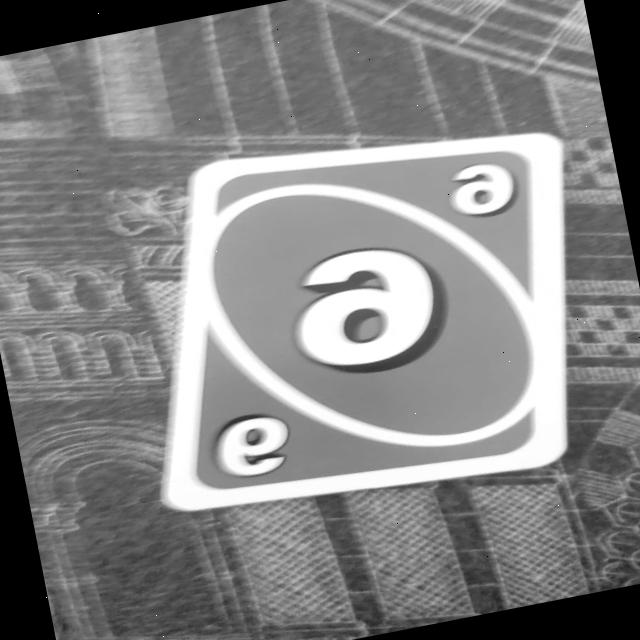card_6: (99, 94, 624, 540)
